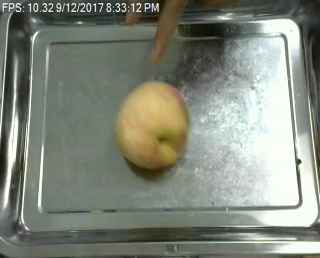Peach: (115, 79, 189, 171)
